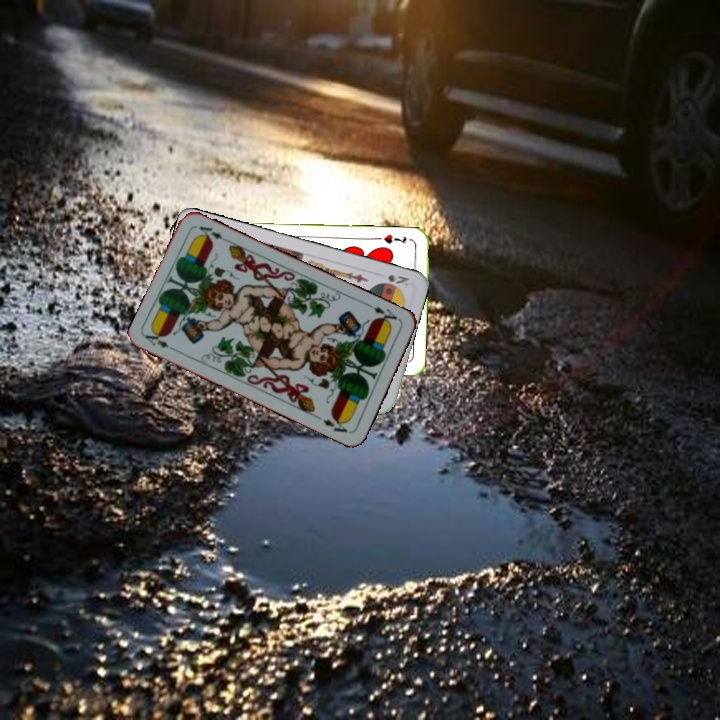EA: (141, 328, 180, 354), (365, 300, 399, 328)
H7: (373, 230, 409, 246)
SK: (384, 270, 412, 289)
